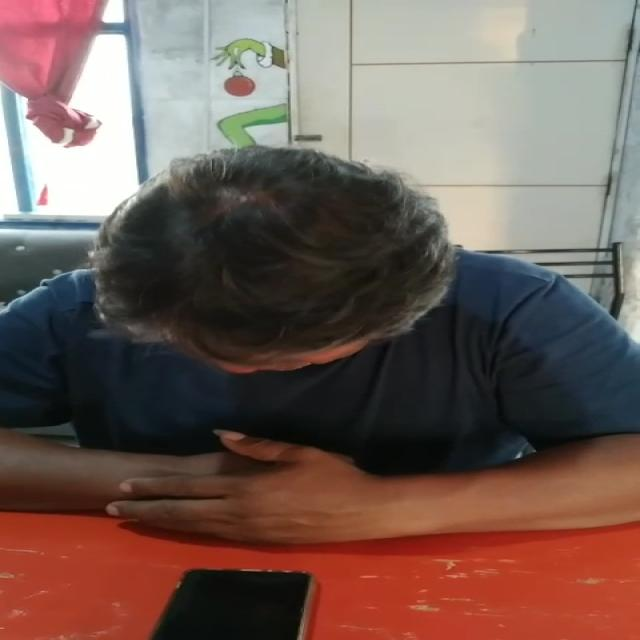9_cabeza_baja: (96, 145, 448, 374)
